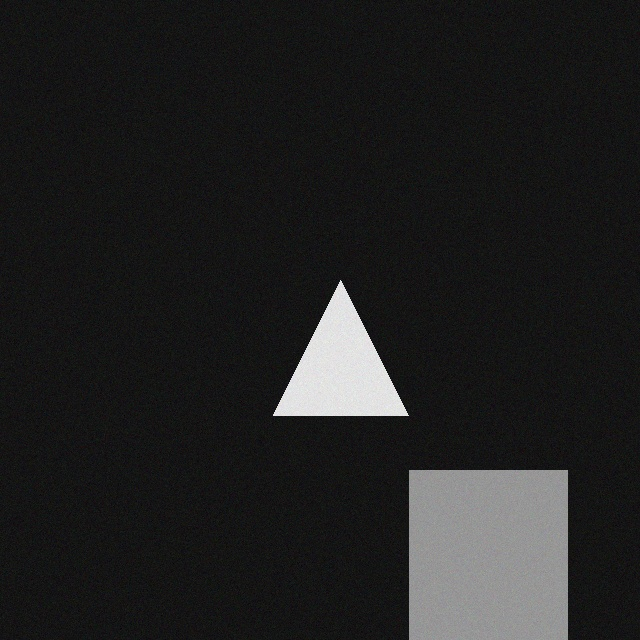square: (420, 482, 578, 640)
triangle: (284, 292, 419, 427)
